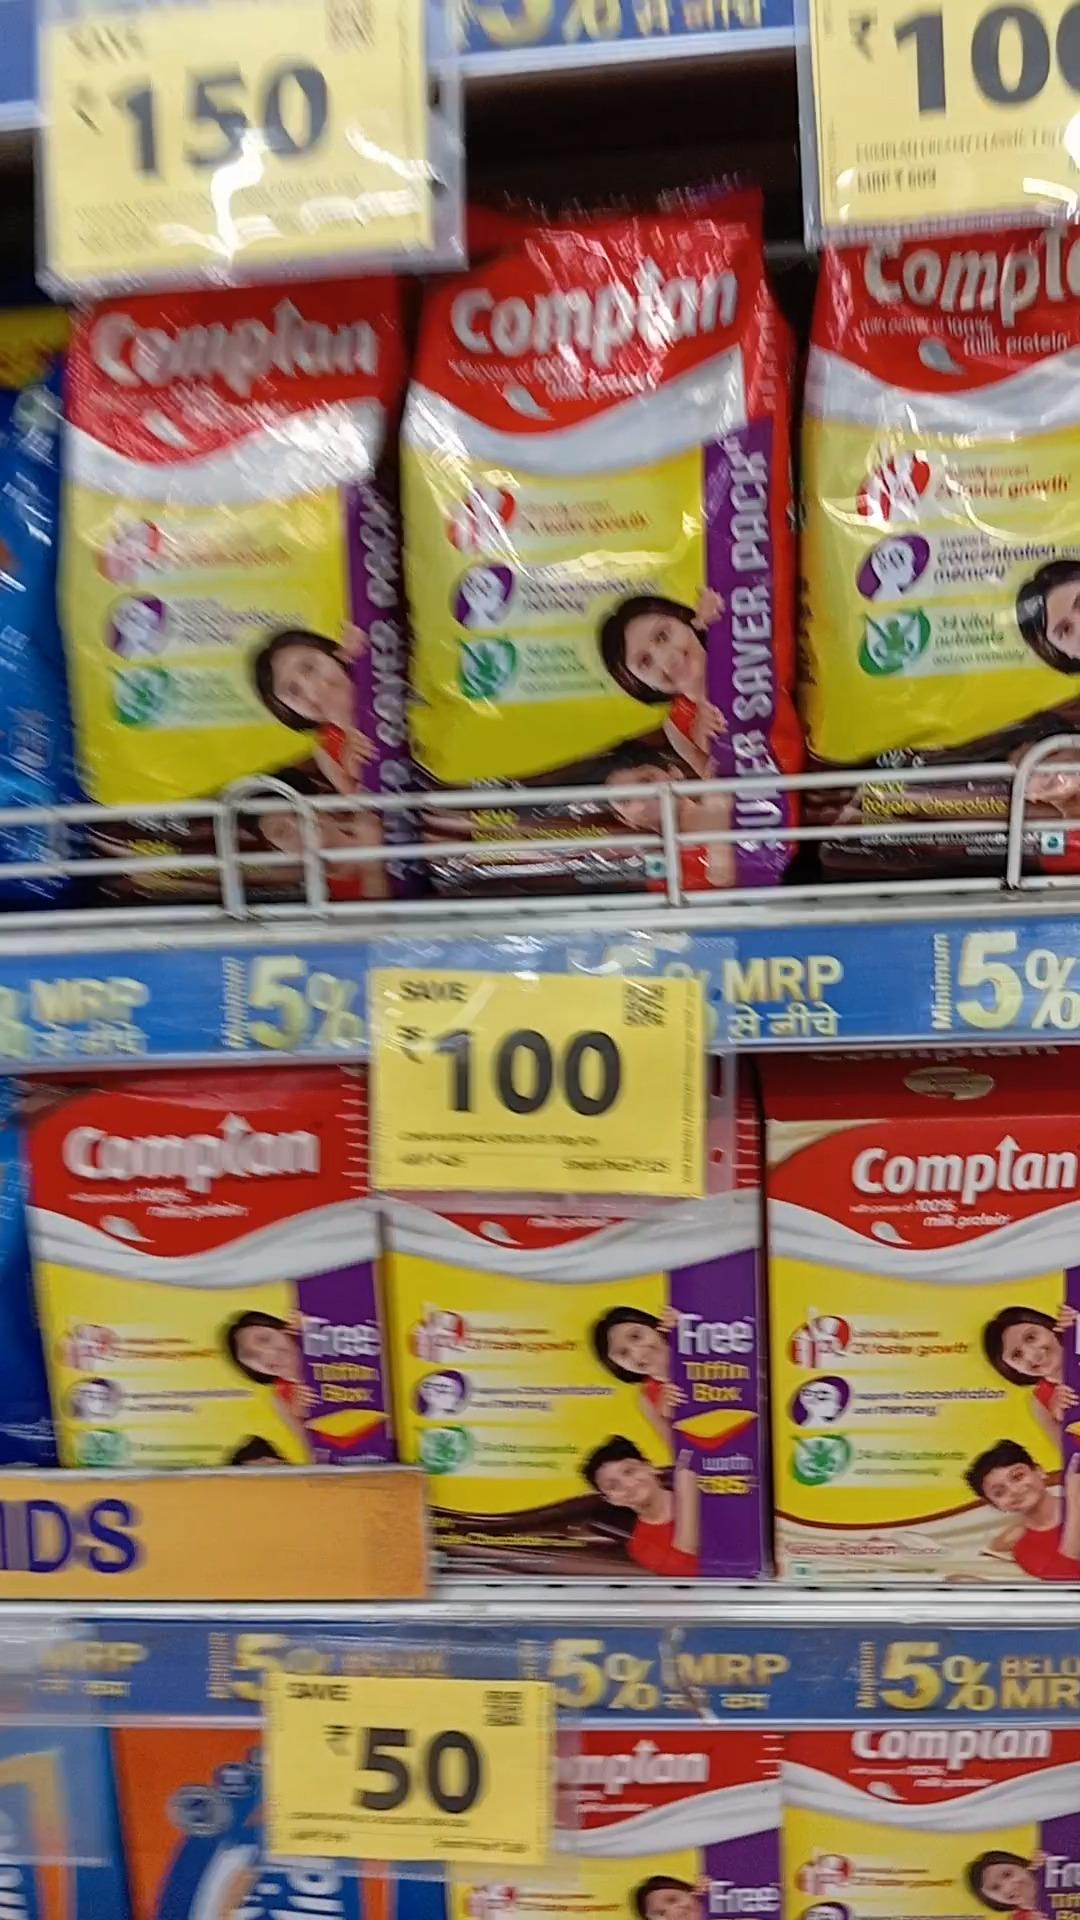COMPLAN_CHOCOLATE_500_GMS_PACK: (386, 1180, 758, 1576), (46, 1068, 369, 1484)
COMPLAN_KESAR_BADAM_500_GMS_PACK: (773, 1105, 1080, 1580)
COMPLAN_RC_POUCH_700_GMS_12: (405, 170, 785, 893), (57, 282, 392, 901), (794, 232, 1080, 876)
